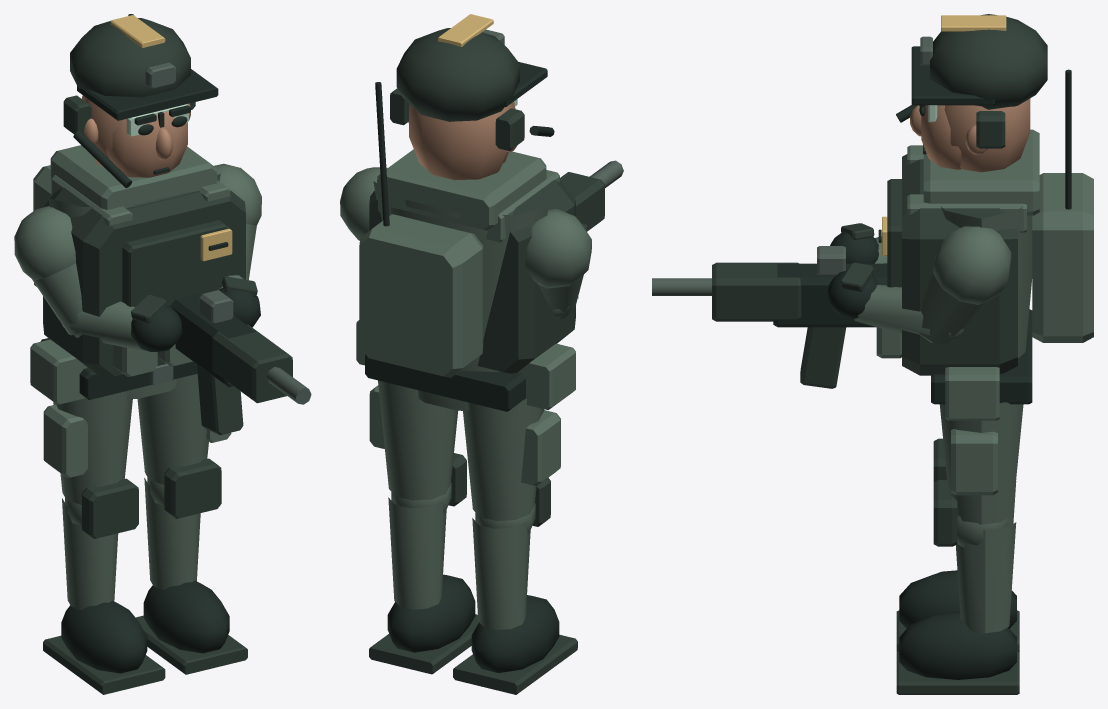
The model's file is recon.glb.
3 renders of one model, left to right at view 1: azimuth 30°, elevation 25°; view 2: azimuth 150°, elevation 25°; view 3: azimuth 270°, elevation 25°, orthographic. The views are drawn at different scales.
Visible parts, largest first — view 1: Torso_details (×3), Head_details (×3), Carbine_details (×3), Boot (×2), Calf (×2), LegL_details, LegR_details, ArmL_details, ShinL_details, ShinR_details, Glove (×2), ForearmL_details (+5 smaller); view 2: Torso_details (×3), Head_details (×3), Calf (×2), LegL_details, LegR_details, Boot (×2), ArmL_details, ShinL_details, ShinR_details, Carbine_details (×2), ArmR_details, HelmetMarker; view 3: Torso_details (×3), Head_details (×3), Carbine_details (×3), Boot (×2), LegR_details, ArmR_details, Calf, ShinR_details, Glove (×2), ForearmR_details, HelmetMarker, ShinL_details (+1 smaller).
Part boxes in pixels (left/top/right/bottom): Torso_details (×3): left=30, top=14, right=245, bottom=404; Head_details (×3): left=63, top=18, right=218, bottom=188; Carbine_details (×3): left=170, top=290, right=311, bottom=435; Boot (×2): left=61, top=580, right=229, bottom=673; Calf (×2): left=62, top=478, right=200, bottom=609; LegL_details: left=43, top=391, right=132, bottom=526; LegR_details: left=137, top=374, right=231, bottom=506; ArmL_details: left=14, top=206, right=82, bottom=335; ShinL_details: left=43, top=478, right=165, bottom=694; ShinR_details: left=135, top=458, right=247, bottom=674; Glove (×2): left=131, top=288, right=260, bottom=351; ForearmL_details: left=59, top=301, right=145, bottom=351; Torso_details (×3): left=356, top=82, right=575, bottom=411; Head_details (×3): left=390, top=28, right=554, bottom=180; Calf (×2): left=388, top=497, right=530, bottom=629; LegL_details: left=463, top=399, right=560, bottom=533; LegR_details: left=369, top=380, right=457, bottom=513; Boot (×2): left=387, top=574, right=559, bottom=672; ArmL_details: left=525, top=209, right=591, bottom=319; ShinL_details: left=453, top=477, right=577, bottom=694; ShinR_details: left=369, top=453, right=478, bottom=674; Carbine_details (×2): left=560, top=160, right=623, bottom=231; ArmR_details: left=340, top=167, right=387, bottom=240; HelmetMarker: left=438, top=14, right=493, bottom=46; Torso_details (×3): left=876, top=69, right=1093, bottom=420; Head_details (×3): left=896, top=14, right=1047, bottom=172; Carbine_details (×3): left=652, top=246, right=887, bottom=388; Boot (×2): left=899, top=570, right=1016, bottom=679; LegR_details: left=939, top=402, right=1023, bottom=547; ArmR_details: left=919, top=226, right=1011, bottom=344; Calf: left=955, top=522, right=1016, bottom=633; ShinR_details: left=896, top=480, right=1019, bottom=694; Glove (×2): left=827, top=231, right=878, bottom=319; ForearmR_details: left=854, top=284, right=963, bottom=342; HelmetMarker: left=941, top=15, right=1006, bottom=31; ShinL_details: left=896, top=438, right=1019, bottom=652.
Bounding box in the file's own units: 0.7847 × 1.96 × 1.22.
